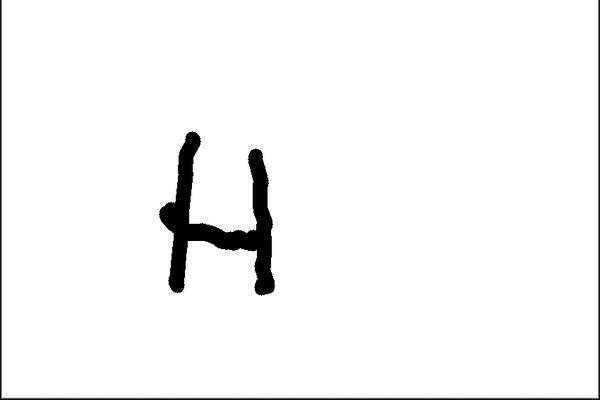H: (149, 124, 283, 307)
